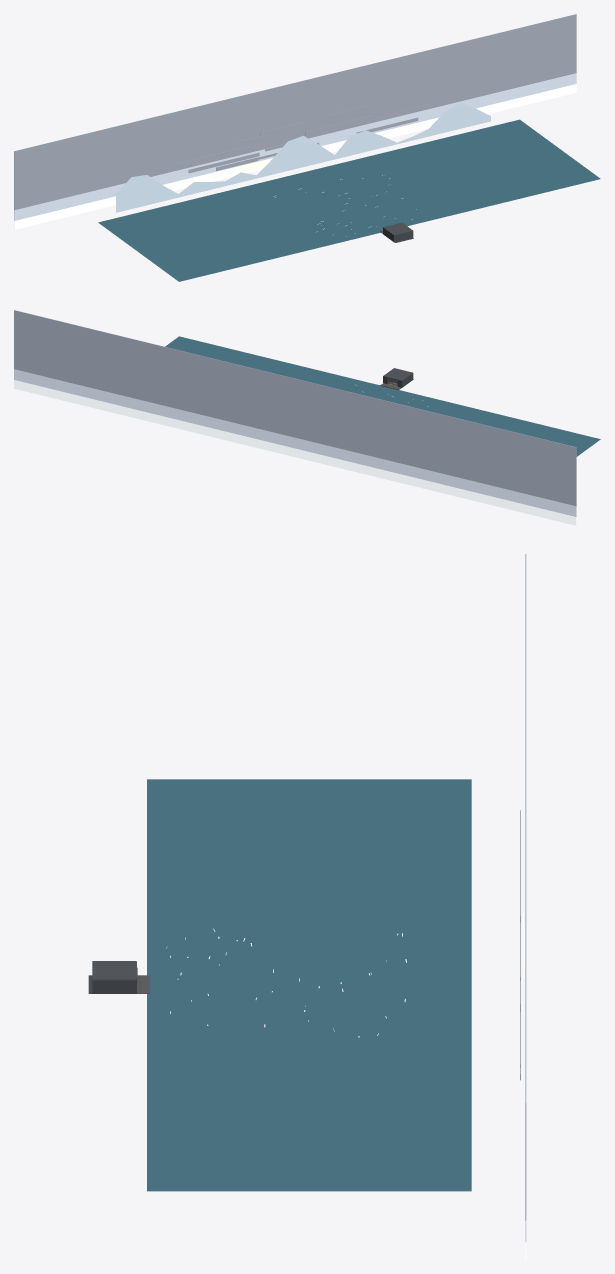
File: hangar-interior.glb
3 views of the same model, one above another, from view 1: azimuth 30°, elevation 25°; view 2: azimuth 150°, elevation 25°; view 3: azimuth 270°, elevation 25° (orthographic). The views are drawn at different scales.
Visible parts, largest first — view 1: HG_SkyHigh_Mesh, HG_StormSea_Mesh, HG_FarMountain_Mesh, HG_SkyMid_Mesh, HG_SkyLow_Mesh, HG_Wall_Mesh; view 2: HG_SkyHigh_Mesh, HG_SkyMid_Mesh, HG_StormSea_Mesh, HG_SkyLow_Mesh, HG_Wall_Mesh; view 3: HG_StormSea_Mesh, HG_SkyHigh_Mesh, HG_Wall_Mesh.
Boxes of the visible parts, bbox=[...] form: HG_SkyHigh_Mesh: bbox=[14, 14, 576, 210]; HG_StormSea_Mesh: bbox=[98, 119, 600, 281]; HG_FarMountain_Mesh: bbox=[116, 103, 490, 212]; HG_SkyMid_Mesh: bbox=[14, 73, 576, 220]; HG_SkyLow_Mesh: bbox=[14, 84, 576, 229]; HG_Wall_Mesh: bbox=[383, 222, 413, 242]; HG_SkyHigh_Mesh: bbox=[14, 310, 576, 506]; HG_SkyMid_Mesh: bbox=[14, 369, 576, 516]; HG_StormSea_Mesh: bbox=[165, 336, 600, 456]; HG_SkyLow_Mesh: bbox=[14, 380, 576, 525]; HG_Wall_Mesh: bbox=[383, 368, 413, 387]; HG_StormSea_Mesh: bbox=[147, 779, 471, 1191]; HG_SkyHigh_Mesh: bbox=[520, 554, 526, 1220]; HG_Wall_Mesh: bbox=[92, 961, 136, 993].
Size of the model in its own units: 1200 by 160 by 404.
